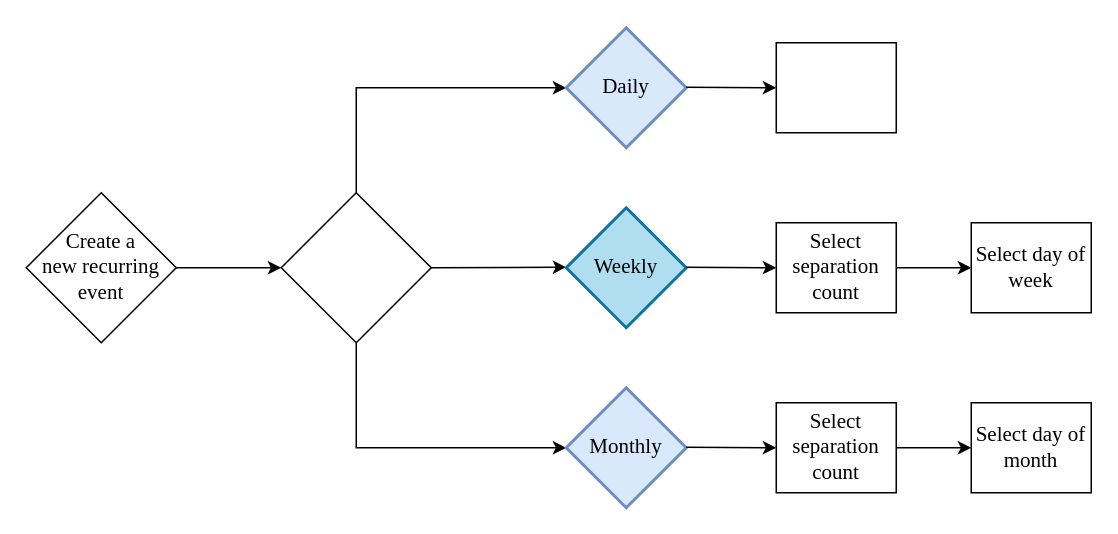
This 1118x534 diagram has some shape labels left out. The shapes that lost their labels are listed below. From the top down, each one's box as (x1, y1, x2, y2) in pixels, then its label:
(775, 41, 896, 133): Select days of week
(280, 191, 431, 343): Select reccuring type for event
